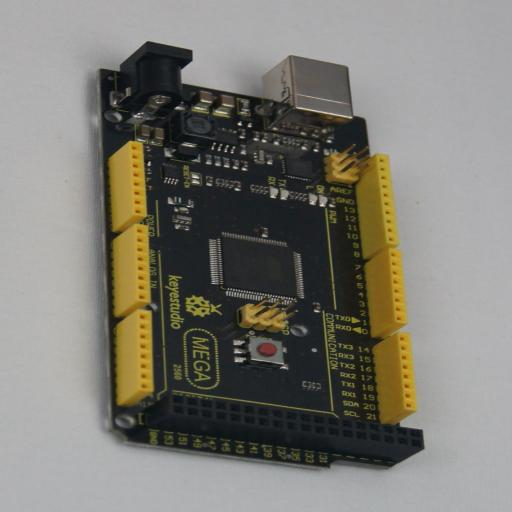ARMCORTEXM3: (90, 41, 424, 470)
